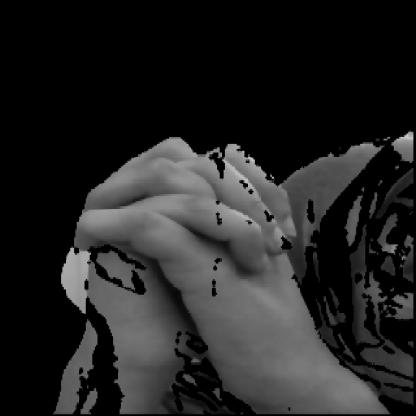prayer: (56, 131, 355, 398)
